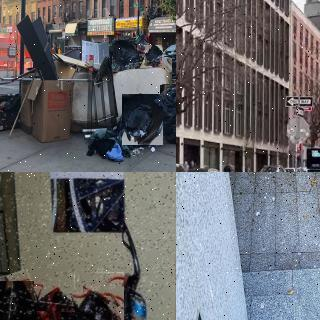Garbage: (122, 94, 163, 145), (76, 284, 130, 320), (0, 281, 34, 320), (159, 84, 176, 143), (110, 39, 139, 70), (145, 45, 162, 66), (172, 56, 176, 80)
